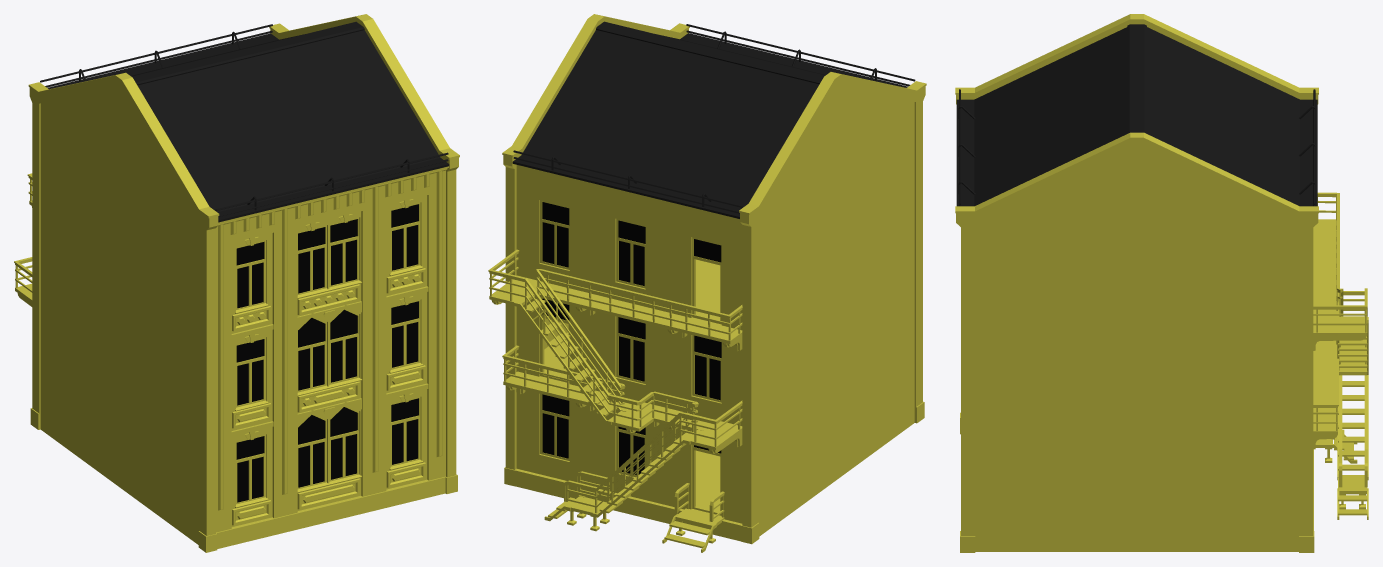
Rendered from SM_third_house_1.fbx.
3 renders of one model, left to right at view 1: azimuth 30°, elevation 25°; view 2: azimuth 150°, elevation 25°; view 3: azimuth 270°, elevation 25°, orthographic. The views are drawn at different scales.
Visible parts, largest first — view 1: Cylinder_34_1; view 2: Cylinder_34_1; view 3: Cylinder_34_1.
Part boxes in pixels (x1=…): Cylinder_34_1: x1=14, y1=14, x2=459, y2=552; Cylinder_34_1: x1=488, y1=14, x2=926, y2=552; Cylinder_34_1: x1=955, y1=14, x2=1368, y2=552.
Bounding box in the file's own units: 814 × 1271 × 1146.
